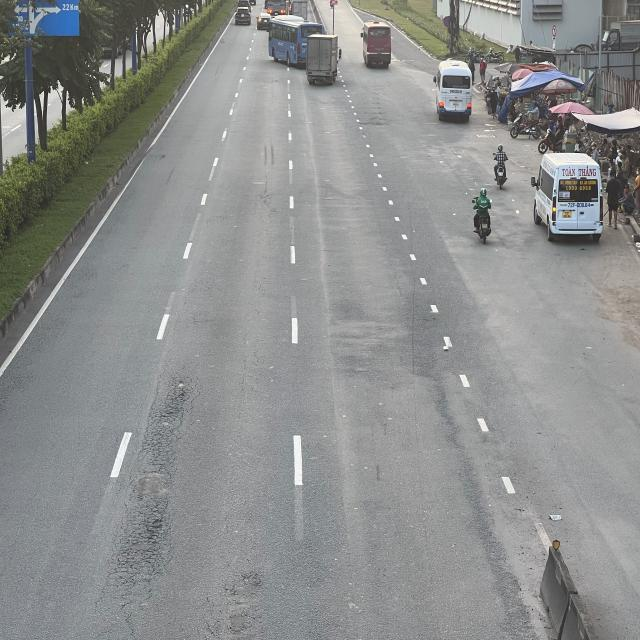car: (234, 6, 253, 28)
coach: (266, 12, 317, 66), (433, 58, 472, 122), (361, 21, 392, 67)
truck: (306, 35, 341, 82)
van: (530, 152, 603, 240)
